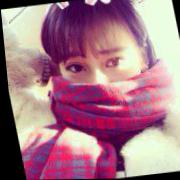WRONG: (53, 35, 148, 129)
